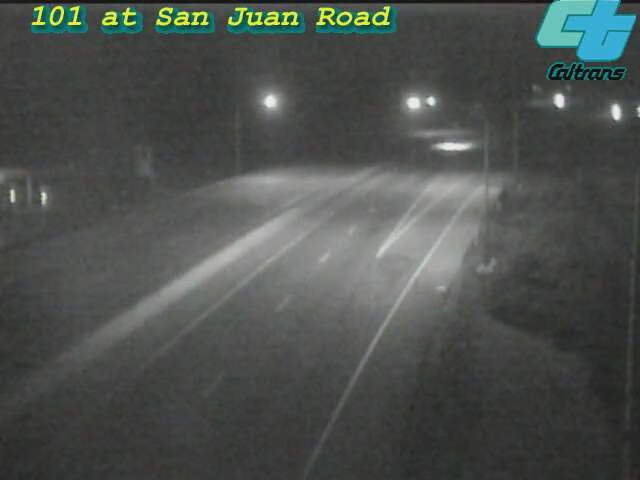vehicle: (430, 121, 480, 171), (589, 89, 639, 139)
